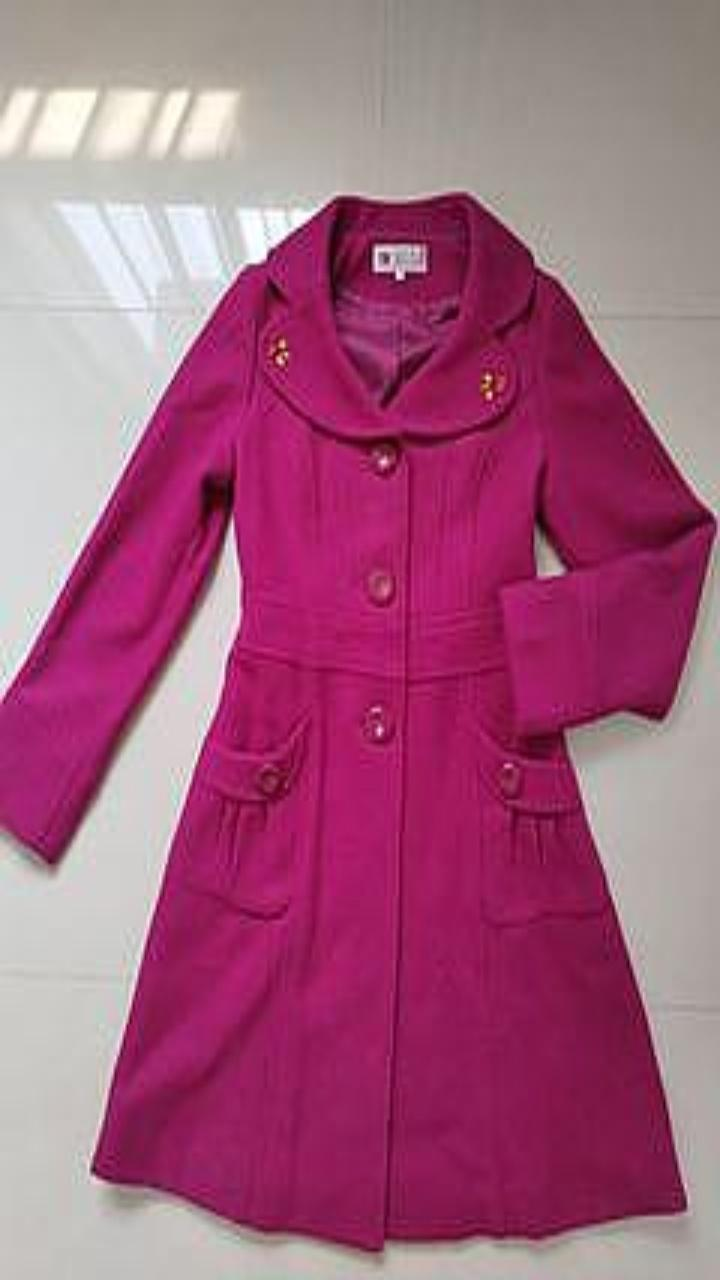Coat: (0, 190, 716, 1249)
